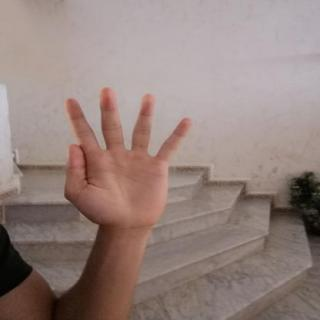SHEEN: (58, 82, 195, 236)
